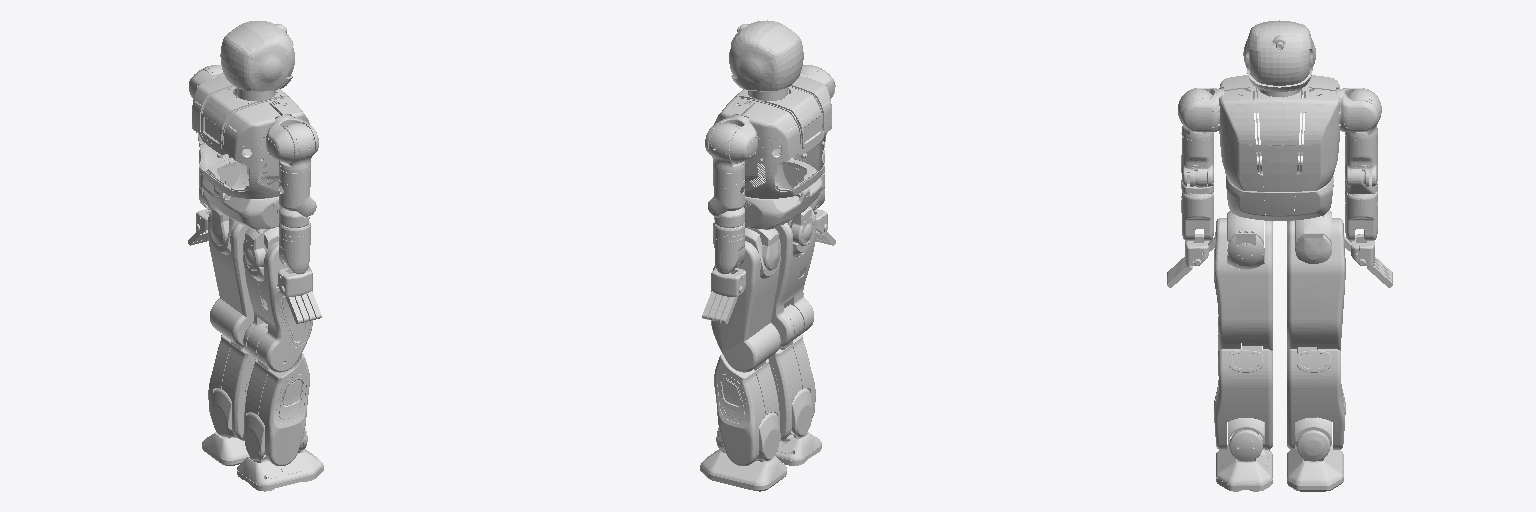
--- Render facts (derived) ---
Views: 3 orthographic renders of the robot side by side, from view 1: azimuth 30°, elevation 25°; view 2: azimuth 150°, elevation 25°; view 3: azimuth 270°, elevation 25°.
Robot: huboplus — 59 links, 58 joints (58 revolute); root link Body_Torso; default pose: all joints at 0.
Visible links, largest first — view 1: Body_Torso, Body_RKN, Body_Head, Body_RHP, Body_LHP, Body_Hip, Body_LKN, Body_RAR, Body_RWY, Body_RSY, Body_RSP, Body_RSR (+6 smaller); view 2: Body_Torso, Body_LHP, Body_LKN, Body_Head, Body_RHP, Body_RKN, Body_Hip, Body_LAR, Body_LWY, Body_LSY, Body_LSP, Body_LSR (+6 smaller); view 3: Body_Torso, Body_LHP, Body_RHP, Body_RKN, Body_LKN, Body_Head, Body_Hip, Body_RAR, Body_LAR, Body_LWY, Body_RWY, Body_LSY (+12 smaller).
Boxes of the visible links, box(x1,y1,x2,y2) form: Body_Torso: box(192, 76, 309, 198); Body_RKN: box(244, 323, 309, 465); Body_Head: box(220, 21, 294, 91); Body_RHP: box(243, 240, 312, 372); Body_LHP: box(208, 208, 253, 347); Body_Hip: box(202, 159, 280, 229); Body_LKN: box(208, 334, 255, 440); Body_RAR: box(237, 428, 323, 491); Body_RWY: box(279, 221, 310, 274); Body_RSY: box(279, 163, 316, 216); Body_RSP: box(266, 115, 318, 162); Body_RSR: box(279, 123, 314, 172); Body_Torso: box(714, 76, 831, 198); Body_LHP: box(711, 239, 780, 372); Body_LKN: box(714, 354, 779, 465); Body_Head: box(729, 20, 803, 91); Body_RHP: box(771, 210, 815, 347); Body_RKN: box(768, 304, 815, 440); Body_Hip: box(743, 159, 821, 229); Body_LAR: box(700, 428, 786, 491); Body_LWY: box(713, 221, 744, 274); Body_LSY: box(708, 163, 744, 216); Body_LSP: box(705, 115, 757, 162); Body_LSR: box(709, 123, 744, 172); Body_Torso: box(1219, 75, 1339, 191); Body_LHP: box(1287, 218, 1345, 352); Body_RHP: box(1214, 218, 1272, 350); Body_RKN: box(1214, 346, 1272, 449); Body_LKN: box(1287, 347, 1345, 449); Body_Head: box(1243, 20, 1315, 91); Body_Hip: box(1226, 160, 1333, 220); Body_RAR: box(1216, 429, 1272, 491); Body_LAR: box(1287, 430, 1343, 491); Body_LWY: box(1345, 191, 1377, 240); Body_RWY: box(1181, 185, 1213, 240); Body_LSY: box(1345, 135, 1377, 186).
Size in the robot's own frame: 0.2767 by 0.5883 by 1.29 metres.
58 mesh visuals loaded from 30 distinct referenced files (10 binary STL, 20 Collada DAE).

URDF robot description (huboplus):
<?xml version="1.0" ?>
<!-- =================================================================================== -->
<!-- |    This document was autogenerated by xacro from huboplus.xacro                 | -->
<!-- |    EDITING THIS FILE BY HAND IS NOT RECOMMENDED                                 | -->
<!-- =================================================================================== -->
<robot name="huboplus" xmlns:xacro="http://www.ros.org/wiki/xacro">
  <link name="Body_Torso">
    <inertial>
      <mass value="7.50334"/>
      <inertia ixx="0.102019" ixy="2.45462e-05" ixz="0.00713022" iyy="0.0832724" iyz="-0.00131733" izz="0.086493"/>
      <origin xyz="0 0 0"/>
    </inertial>
    <visual>
      <geometry>
        <mesh filename="meshes/Body_Torso_vis.dae"/>
      </geometry>
      <material name="random">
        <color rgba="0.866667 0.866667 0.866667 1"/>
      </material>
    </visual>
    <collision>
      <geometry>
        <mesh filename="meshes/Body_Torso.stl"/>
      </geometry>
    </collision>
  </link>
  <!-- Robots should have necks, dammit! -->
  <link name="Body_Neck">
    <collision>
        <geometry>
        <mesh filename="meshes/Body_Neck.stl"/>
      </geometry>
    </collision>
    <visual>
      <geometry>
        <mesh filename="meshes/Body_Neck.stl"/>
      </geometry>
      <material name="random">
        <color rgba="0.866667 0.866667 0.866667 1"/>
      </material>
    </visual>
    <!-- and they should have an inertia, dammit! Because we do not know the value, we put something small. -->
    <inertial>
      <mass value="0.000001"/>
      <inertia ixx="1e-12" ixy="0" ixz="0" iyy="1e-12" iyz="0" izz="1e-12"/>
      <origin xyz="0 0 0"/>
    </inertial>
  </link>
  <link name="Body_Head_Empty">
    <inertial>
      <mass value="0.000001"/>
      <inertia ixx="1e-12" ixy="0" ixz="0" iyy="1e-12" iyz="0" izz="1e-12"/>
      <origin xyz="0 0 0"/>
    </inertial>
  </link> 
  <link name="Body_Head">
    <inertial>
      <mass value="0.374251"/>
      <inertia ixx="0.00164033" ixy="-1.08171e-07" ixz="-9.53978e-05" iyy="0.00153943" iyz="1.25376e-06" izz="0.00190393"/>
      <origin xyz="0.0106886 -3.00864e-05 0.032123"/>
    </inertial>
    <visual>
      <geometry>
        <mesh filename="meshes/Body_Head.stl"/>
      </geometry>
      <material name="random">
        <color rgba="0.866667 0.866667 0.866667 1"/>
      </material>
    </visual>
    <collision>
      <geometry>
        <mesh filename="meshes/Body_Head.stl"/>
      </geometry>
    </collision>
  </link>
  <link name="Body_LSP">
    <inertial>
      <mass value="0.646655"/>
      <inertia ixx="0.000893731" ixy="-0.000156484" ixz="4.98007e-07" iyy="0.00093016" iyz="1.57095e-07" izz="0.00124323"/>
      <origin xyz="0.0167207 0.0570407 9.91873e-06"/>
    </inertial>
    <visual>
      <geometry>
        <mesh filename="meshes/Body_LSP_vis.dae"/>
      </geometry>
      <material name="random">
        <color rgba="0.866667 0.866667 0.866667 1"/>
      </material>
    </visual>
    <collision>
      <geometry>
        <mesh filename="meshes/Body_LSP.stl"/>
      </geometry>
    </collision>
  </link>
  <link name="Body_LSR">
    <inertial>
      <mass value="0.413368"/>
      <inertia ixx="0.000269283" ixy="4.52571e-07" ixz="3.23662e-06" iyy="0.00037679" iyz="9.93935e-07" izz="0.000360355"/>
      <origin xyz="-0.036208 -8.31243e-05 -0.00126685"/>
    </inertial>
    <visual>
      <geometry>
        <mesh filename="meshes/Body_LSR_vis.dae"/>
      </geometry>
      <material name="random">
        <color rgba="0.866667 0.866667 0.866667 1"/>
      </material>
    </visual>
    <collision>
      <geometry>
        <mesh filename="meshes/Body_LSR.stl"/>
      </geometry>
    </collision>
  </link>
  <link name="Body_LSY">
    <inertial>
      <mass value="1.15461"/>
      <inertia ixx="0.00365479" ixy="2.05436e-06" ixz="0.000418448" iyy="0.00364731" iyz="-3.09648e-05" izz="0.00060633"/>
      <origin xyz="0.00456121 3.10576e-05 -0.0907824"/>
    </inertial>
    <visual>
      <geometry>
        <mesh filename="meshes/Body_LSY_vis.dae"/>
      </geometry>
      <material name="random">
        <color rgba="0.866667 0.866667 0.866667 1"/>
      </material>
    </visual>
    <collision>
      <geometry>
        <mesh filename="meshes/Body_LSY.stl"/>
      </geometry>
    </collision>
  </link>
  <link name="Body_LEB">
    <inertial>
      <mass value="0.44094"/>
      <inertia ixx="0.0005027" ixy="3.64587e-06" ixz="-1.41388e-05" iyy="0.00049415" iyz="7.65528e-06" izz="0.000131786"/>
      <origin xyz="-0.0217349 0.0178314 -0.0610873"/>
    </inertial>
    <visual>
      <geometry>
        <mesh filename="meshes/Body_LEB.stl"/>
      </geometry>
      <material name="random">
        <color rgba="0.866667 0.866667 0.866667 1"/>
      </material>
    </visual>
    <collision>
      <geometry>
        <mesh filename="meshes/Body_LEB.stl"/>
      </geometry>
    </collision>
  </link>
  <link name="Body_LWY">
    <inertial>
      <mass value="0.537738"/>
      <inertia ixx="0.00063457" ixy="-4.62486e-07" ixz="6.20682e-06" iyy="0.000563918" iyz="3.54044e-05" izz="0.000305422"/>
      <origin xyz="-0.00122019 0.000635233 -0.0238043"/>
    </inertial>
    <visual>
      <geometry>
        <mesh filename="meshes/Body_LWY_vis.dae"/>
      </geometry>
      <material name="random">
        <color rgba="0.866667 0.866667 0.866667 1"/>
      </material>
    </visual>
    <collision>
      <geometry>
        <mesh filename="meshes/Body_LWY.stl"/>
      </geometry>
    </collision>
  </link>
  <link name="Body_LWP">
    <inertial>
      <mass value="0.164393"/>
      <inertia ixx="9.74327e-05" ixy="-5.22155e-07" ixz="-1.17317e-06" iyy="0.000144494" iyz="9.4927e-06" izz="0.000122681"/>
      <origin xyz="-0.000258199 0.011442 -0.0461472"/>
    </inertial>
    <visual>
      <geometry>
        <mesh filename="meshes/Body_LWP_vis.dae"/>
      </geometry>
      <material name="random">
        <color rgba="0.866667 0.866667 0.866667 1"/>
      </material>
    </visual>
    <collision>
      <geometry>
        <mesh filename="meshes/Body_LWP.stl"/>
      </geometry>
    </collision>
  </link>
  <link name="leftThumbProximal">
    <inertial>
      <mass value="0.096"/>
      <inertia ixx="2.304e-06" ixy="0" ixz="0" iyy="8.96e-06" iyz="6.85949e-15" izz="9.216e-06"/>
      <origin xyz="0.024 0 0"/>
    </inertial>
    <visual>
      <geometry>
        <mesh filename="meshes/proximal.stl"/>
      </geometry>
      <material name="random">
        <color rgba="0.866667 0.866667 0.866667 1"/>
      </material>
    </visual>
    <collision>
      <geometry>
        <mesh filename="meshes/proximal.stl"/>
      </geometry>
    </collision>
  </link>
  <link name="leftThumbMedial">
    <inertial>
      <mass value="0.048"/>
      <inertia ixx="1.152e-06" ixy="0" ixz="0" iyy="2.59e-06" iyz="3.42975e-15" izz="2.718e-06"/>
      <origin xyz="0.0165 0 0"/>
    </inertial>
    <visual>
      <geometry>
        <mesh filename="meshes/medial_distal.stl"/>
      </geometry>
      <material name="random">
        <color rgba="0.866667 0.866667 0.866667 1"/>
      </material>
    </visual>
    <collision>
      <geometry>
        <mesh filename="meshes/medial_distal.stl"/>
      </geometry>
    </collision>
  </link>
  <link name="leftThumbDistal">
    <inertial>
      <mass value="0.08"/>
      <inertia ixx="1.92e-06" ixy="0" ixz="0" iyy="3.82667e-06" iyz="5.71624e-15" izz="4.04e-06"/>
      <origin xyz="0.015 0 0"/>
    </inertial>
    <visual>
      <geometry>
        <mesh filename="meshes/medial_distal.stl"/>
      </geometry>
      <material name="random">
        <color rgba="0.866667 0.866667 0.866667 1"/>
      </material>
    </visual>
    <collision>
      <geometry>
        <mesh filename="meshes/medial_distal.stl"/>
      </geometry>
    </collision>
  </link>
  <link name="leftPinkyProximal">
    <inertial>
      <mass value="0.096"/>
      <inertia ixx="2.304e-06" ixy="0" ixz="0" iyy="8.96e-06" iyz="6.85949e-15" izz="9.216e-06"/>
      <origin xyz="0.024 0 0"/>
    </inertial>
    <visual>
      <geometry>
        <mesh filename="meshes/proximal.stl"/>
      </geometry>
      <material name="random">
        <color rgba="0.866667 0.866667 0.866667 1"/>
      </material>
    </visual>
    <collision>
      <geometry>
        <mesh filename="meshes/proximal.stl"/>
      </geometry>
    </collision>
  </link>
  <link name="leftPinkyMedial">
    <inertial>
      <mass value="0.048"/>
      <inertia ixx="1.152e-06" ixy="0" ixz="0" iyy="2.59e-06" iyz="3.42975e-15" izz="2.718e-06"/>
      <origin xyz="0.0165 0 0"/>
    </inertial>
    <visual>
      <geometry>
        <mesh filename="meshes/medial_distal.stl"/>
      </geometry>
      <material name="random">
        <color rgba="0.866667 0.866667 0.866667 1"/>
      </material>
    </visual>
    <collision>
      <geometry>
        <mesh filename="meshes/medial_distal.stl"/>
      </geometry>
    </collision>
  </link>
  <link name="leftPinkyDistal">
    <inertial>
      <mass value="0.08"/>
      <inertia ixx="1.92e-06" ixy="0" ixz="0" iyy="3.82667e-06" iyz="5.71624e-15" izz="4.04e-06"/>
      <origin xyz="0.015 0 0"/>
    </inertial>
    <visual>
      <geometry>
        <mesh filename="meshes/medial_distal.stl"/>
      </geometry>
      <material name="random">
        <color rgba="0.866667 0.866667 0.866667 1"/>
      </material>
    </visual>
    <collision>
      <geometry>
        <mesh filename="meshes/medial_distal.stl"/>
      </geometry>
    </collision>
  </link>
  <link name="leftRingProximal">
    <inertial>
      <mass value="0.096"/>
      <inertia ixx="2.304e-06" ixy="0" ixz="0" iyy="8.96e-06" iyz="6.85949e-15" izz="9.216e-06"/>
      <origin xyz="0.024 0 0"/>
    </inertial>
    <visual>
      <geometry>
        <mesh filename="meshes/proximal.stl"/>
      </geometry>
      <material name="random">
        <color rgba="0.866667 0.866667 0.866667 1"/>
      </material>
    </visual>
    <collision>
      <geometry>
        <mesh filename="meshes/proximal.stl"/>
      </geometry>
    </collision>
  </link>
  <link name="leftRingMedial">
    <inertial>
      <mass value="0.048"/>
      <inertia ixx="1.152e-06" ixy="0" ixz="0" iyy="2.59e-06" iyz="3.42975e-15" izz="2.718e-06"/>
      <origin xyz="0.0165 0 0"/>
    </inertial>
    <visual>
      <geometry>
        <mesh filename="meshes/medial_distal.stl"/>
      </geometry>
      <material name="random">
        <color rgba="0.866667 0.866667 0.866667 1"/>
      </material>
    </visual>
    <collision>
      <geometry>
        <mesh filename="meshes/medial_distal.stl"/>
      </geometry>
    </collision>
  </link>
  <link name="leftRingDistal">
    <inertial>
      <mass value="0.08"/>
      <inertia ixx="1.92e-06" ixy="0" ixz="0" iyy="3.82667e-06" iyz="5.71624e-15" izz="4.04e-06"/>
      <origin xyz="0.015 0 0"/>
    </inertial>
    <visual>
      <geometry>
        <mesh filename="meshes/medial_distal.stl"/>
      </geometry>
      <material name="random">
        <color rgba="0.866667 0.866667 0.866667 1"/>
      </material>
    </visual>
    <collision>
      <geometry>
        <mesh filename="meshes/medial_distal.stl"/>
      </geometry>
    </collision>
  </link>
  <link name="leftMiddleProximal">
    <inertial>
      <mass value="0.096"/>
      <inertia ixx="2.304e-06" ixy="0" ixz="0" iyy="8.96e-06" iyz="6.85949e-15" izz="9.216e-06"/>
      <origin xyz="0.024 0 0"/>
    </inertial>
    <visual>
      <geometry>
        <mesh filename="meshes/proximal.stl"/>
      </geometry>
      <material name="random">
        <color rgba="0.866667 0.866667 0.866667 1"/>
      </material>
    </visual>
    <collision>
      <geometry>
        <mesh filename="meshes/proximal.stl"/>
      </geometry>
    </collision>
  </link>
  <link name="leftMiddleMedial">
    <inertial>
      <mass value="0.048"/>
      <inertia ixx="1.152e-06" ixy="0" ixz="0" iyy="2.59e-06" iyz="3.42975e-15" izz="2.718e-06"/>
      <origin xyz="0.0165 0 0"/>
    </inertial>
    <visual>
      <geometry>
        <mesh filename="meshes/medial_distal.stl"/>
      </geometry>
      <material name="random">
        <color rgba="0.866667 0.866667 0.866667 1"/>
      </material>
    </visual>
    <collision>
      <geometry>
        <mesh filename="meshes/medial_distal.stl"/>
      </geometry>
    </collision>
  </link>
  <link name="leftMiddleDistal">
    <inertial>
      <mass value="0.08"/>
      <inertia ixx="1.92e-06" ixy="0" ixz="0" iyy="3.82667e-06" iyz="5.71624e-15" izz="4.04e-06"/>
      <origin xyz="0.015 0 0"/>
    </inertial>
    <visual>
      <geometry>
        <mesh filename="meshes/medial_distal.stl"/>
      </geometry>
      <material name="random">
        <color rgba="0.866667 0.866667 0.866667 1"/>
      </material>
    </visual>
    <collision>
      <geometry>
        <mesh filename="meshes/medial_distal.stl"/>
      </geometry>
    </collision>
  </link>
  <link name="leftIndexProximal">
    <inertial>
      <mass value="0.096"/>
      <inertia ixx="2.304e-06" ixy="0" ixz="0" iyy="8.96e-06" iyz="6.85949e-15" izz="9.216e-06"/>
      <origin xyz="0.024 0 0"/>
    </inertial>
    <visual>
      <geometry>
        <mesh filename="meshes/proximal.stl"/>
      </geometry>
      <material name="random">
        <color rgba="0.866667 0.866667 0.866667 1"/>
      </material>
    </visual>
    <collision>
      <geometry>
        <mesh filename="meshes/proximal.stl"/>
      </geometry>
    </collision>
  </link>
  <link name="leftIndexMedial">
    <inertial>
      <mass value="0.048"/>
      <inertia ixx="1.152e-06" ixy="0" ixz="0" iyy="2.59e-06" iyz="3.42975e-15" izz="2.718e-06"/>
      <origin xyz="0.0165 0 0"/>
    </inertial>
    <visual>
      <geometry>
        <mesh filename="meshes/medial_distal.stl"/>
      </geometry>
      <material name="random">
        <color rgba="0.866667 0.866667 0.866667 1"/>
      </material>
    </visual>
    <collision>
      <geometry>
        <mesh filename="meshes/medial_distal.stl"/>
      </geometry>
    </collision>
  </link>
  <link name="leftIndexDistal">
    <inertial>
      <mass value="0.08"/>
      <inertia ixx="1.92e-06" ixy="0" ixz="0" iyy="3.82667e-06" iyz="5.71624e-15" izz="4.04e-06"/>
      <origin xyz="0.015 0 0"/>
    </inertial>
    <visual>
      <geometry>
        <mesh filename="meshes/medial_distal.stl"/>
      </geometry>
      <material name="random">
        <color rgba="0.866667 0.866667 0.866667 1"/>
      </material>
    </visual>
    <collision>
      <geometry>
        <mesh filename="meshes/medial_distal.stl"/>
      </geometry>
    </collision>
  </link>
  <link name="Body_RSP">
    <inertial>
      <mass value="0.646655"/>
      <inertia ixx="0.000893731" ixy="0.000156484" ixz="4.98007e-07" iyy="0.00093016" iyz="-1.57095e-07" izz="0.00124323"/>
      <origin xyz="0.0167207 -0.0570407 9.91873e-06"/>
    </inertial>
    <visual>
      <geometry>
        <mesh filename="meshes/Body_RSP_vis.dae"/>
      </geometry>
      <material name="random">
        <color rgba="0.866667 0.866667 0.866667 1"/>
      </material>
    </visual>
    <collision>
      <geometry>
        <mesh filename="meshes/Body_RSP.stl"/>
      </geometry>
    </collision>
  </link>
  <link name="Body_RSR">
    <inertial>
      <mass value="0.413368"/>
      <inertia ixx="0.000269283" ixy="-4.52571e-07" ixz="3.23662e-06" iyy="0.00037679" iyz="-9.93935e-07" izz="0.000360355"/>
      <origin xyz="-0.036208 8.31243e-05 -0.00126685"/>
    </inertial>
    <visual>
      <geometry>
        <mesh filename="meshes/Body_RSR_vis.dae"/>
      </geometry>
      <material name="random">
        <color rgba="0.866667 0.866667 0.866667 1"/>
      </material>
    </visual>
    <collision>
      <geometry>
        <mesh filename="meshes/Body_RSR.stl"/>
      </geometry>
    </collision>
  </link>
  <link name="Body_RSY">
    <inertial>
      <mass value="1.15461"/>
      <inertia ixx="0.00365479" ixy="-2.05436e-06" ixz="0.000418448" iyy="0.00364731" iyz="3.09648e-05" izz="0.00060633"/>
      <origin xyz="0.00456121 -3.10576e-05 -0.0907824"/>
    </inertial>
    <visual>
      <geometry>
        <mesh filename="meshes/Body_RSY_vis.dae"/>
      </geometry>
      <material name="random">
        <color rgba="0.866667 0.866667 0.866667 1"/>
      </material>
    </visual>
    <collision>
      <geometry>
        <mesh filename="meshes/Body_RSY.stl"/>
      </geometry>
    </collision>
  </link>
  <link name="Body_REB">
    <inertial>
      <mass value="0.44094"/>
      <inertia ixx="0.0005027" ixy="-3.64587e-06" ixz="-1.41388e-05" iyy="0.00049415" iyz="-7.65528e-06" izz="0.000131786"/>
      <origin xyz="-0.0217349 -0.0178314 -0.0610873"/>
    </inertial>
    <visual>
      <geometry>
        <mesh filename="meshes/Body_REB_vis.dae"/>
      </geometry>
      <material name="random">
        <color rgba="0.866667 0.866667 0.866667 1"/>
      </material>
    </visual>
    <collision>
      <geometry>
        <mesh filename="meshes/Body_REB.stl"/>
      </geometry>
    </collision>
  </link>
  <link name="Body_RWY">
    <inertial>
      <mass value="0.537738"/>
      <inertia ixx="0.00063457" ixy="4.62486e-07" ixz="6.20682e-06" iyy="0.000563918" iyz="-3.54044e-05" izz="0.000305422"/>
      <origin xyz="-0.00122019 -0.000635233 -0.0238043"/>
    </inertial>
    <visual>
      <geometry>
        <mesh filename="meshes/Body_RWY_vis.dae"/>
      </geometry>
      <material name="random">
        <color rgba="0.866667 0.866667 0.866667 1"/>
      </material>
    </visual>
    <collision>
      <geometry>
        <mesh filename="meshes/Body_RWY.stl"/>
      </geometry>
    </collision>
  </link>
  <link name="Body_RWP">
    <inertial>
      <mass value="0.164393"/>
      <inertia ixx="9.74327e-05" ixy="5.22155e-07" ixz="-1.17317e-06" iyy="0.000144494" iyz="-9.4927e-06" izz="0.000122681"/>
      <origin xyz="-0.000258199 -0.011442 -0.0461472"/>
    </inertial>
    <visual>
      <geometry>
        <mesh filename="meshes/Body_RWP_vis.dae"/>
      </geometry>
      <material name="random">
        <color rgba="0.866667 0.866667 0.866667 1"/>
      </material>
    </visual>
    <collision>
      <geometry>
        <mesh filename="meshes/Body_RWP.stl"/>
      </geometry>
    </collision>
  </link>
  <link name="rightThumbProximal">
    <inertial>
      <mass value="0.096"/>
      <inertia ixx="2.304e-06" ixy="0" ixz="0" iyy="8.96e-06" iyz="6.85949e-15" izz="9.216e-06"/>
      <origin xyz="0.024 0 0"/>
    </inertial>
    <visual>
      <geometry>
        <mesh filename="meshes/proximal.stl"/>
      </geometry>
      <material name="random">
        <color rgba="0.866667 0.866667 0.866667 1"/>
      </material>
    </visual>
    <collision>
      <geometry>
        <mesh filename="meshes/proximal.stl"/>
      </geometry>
    </collision>
  </link>
  <link name="rightThumbMedial">
    <inertial>
      <mass value="0.048"/>
      <inertia ixx="1.152e-06" ixy="0" ixz="0" iyy="2.59e-06" iyz="3.42975e-15" izz="2.718e-06"/>
      <origin xyz="0.0165 0 0"/>
    </inertial>
    <visual>
      <geometry>
        <mesh filename="meshes/medial_distal.stl"/>
      </geometry>
      <material name="random">
        <color rgba="0.866667 0.866667 0.866667 1"/>
      </material>
    </visual>
    <collision>
      <geometry>
        <mesh filename="meshes/medial_distal.stl"/>
      </geometry>
    </collision>
  </link>
  <link name="rightThumbDistal">
    <inertial>
      <mass value="0.08"/>
      <inertia ixx="1.92e-06" ixy="0" ixz="0" iyy="3.82667e-06" iyz="5.71624e-15" izz="4.04e-06"/>
      <origin xyz="0.015 0 0"/>
    </inertial>
    <visual>
      <geometry>
        <mesh filename="meshes/medial_distal.stl"/>
      </geometry>
      <material name="random">
        <color rgba="0.866667 0.866667 0.866667 1"/>
      </material>
    </visual>
    <collision>
      <geometry>
        <mesh filename="meshes/medial_distal.stl"/>
      </geometry>
    </collision>
  </link>
  <link name="rightPinkyProximal">
    <inertial>
      <mass value="0.096"/>
      <inertia ixx="2.304e-06" ixy="0" ixz="0" iyy="8.96e-06" iyz="6.85949e-15" izz="9.216e-06"/>
      <origin xyz="0.024 0 0"/>
    </inertial>
    <visual>
      <geometry>
        <mesh filename="meshes/proximal.stl"/>
      </geometry>
      <material name="random">
        <color rgba="0.866667 0.866667 0.866667 1"/>
      </material>
    </visual>
    <collision>
      <geometry>
        <mesh filename="meshes/proximal.stl"/>
      </geometry>
    </collision>
  </link>
  <link name="rightPinkyMedial">
    <inertial>
      <mass value="0.048"/>
      <inertia ixx="1.152e-06" ixy="0" ixz="0" iyy="2.59e-06" iyz="3.42975e-15" izz="2.718e-06"/>
      <origin xyz="0.0165 0 0"/>
    </inertial>
    <visual>
      <geometry>
        <mesh filename="meshes/medial_distal.stl"/>
      </geometry>
      <material name="random">
        <color rgba="0.866667 0.866667 0.866667 1"/>
      </material>
    </visual>
    <collision>
      <geometry>
        <mesh filename="meshes/medial_distal.stl"/>
      </geometry>
    </collision>
  </link>
  <link name="rightPinkyDistal">
    <inertial>
      <mass value="0.08"/>
      <inertia ixx="1.92e-06" ixy="0" ixz="0" iyy="3.82667e-06" iyz="5.71624e-15" izz="4.04e-06"/>
      <origin xyz="0.015 0 0"/>
    </inertial>
    <visual>
      <geometry>
        <mesh filename="meshes/medial_distal.stl"/>
      </geometry>
      <material name="random">
        <color rgba="0.866667 0.866667 0.866667 1"/>
      </material>
    </visual>
    <collision>
      <geometry>
        <mesh filename="meshes/medial_distal.stl"/>
      </geometry>
    </collision>
  </link>
  <link name="rightRingProximal">
    <inertial>
      <mass value="0.096"/>
      <inertia ixx="2.304e-06" ixy="0" ixz="0" iyy="8.96e-06" iyz="6.85949e-15" izz="9.216e-06"/>
      <origin xyz="0.024 0 0"/>
    </inertial>
    <visual>
      <geometry>
        <mesh filename="meshes/proximal.stl"/>
      </geometry>
      <material name="random">
        <color rgba="0.866667 0.866667 0.866667 1"/>
      </material>
    </visual>
    <collision>
      <geometry>
        <mesh filename="meshes/proximal.stl"/>
      </geometry>
    </collision>
  </link>
  <link name="rightRingMedial">
    <inertial>
      <mass value="0.048"/>
      <inertia ixx="1.152e-06" ixy="0" ixz="0" iyy="2.59e-06" iyz="3.42975e-15" izz="2.718e-06"/>
      <origin xyz="0.0165 0 0"/>
    </inertial>
    <visual>
      <geometry>
        <mesh filename="meshes/medial_distal.stl"/>
      </geometry>
      <material name="random">
        <color rgba="0.866667 0.866667 0.866667 1"/>
      </material>
    </visual>
    <collision>
      <geometry>
        <mesh filename="meshes/medial_distal.stl"/>
      </geometry>
    </collision>
  </link>
  <link name="rightRingDistal">
    <inertial>
      <mass value="0.08"/>
      <inertia ixx="1.92e-06" ixy="0" ixz="0" iyy="3.82667e-06" iyz="5.71624e-15" izz="4.04e-06"/>
      <origin xyz="0.015 0 0"/>
    </inertial>
    <visual>
      <geometry>
        <mesh filename="meshes/medial_distal.stl"/>
      </geometry>
      <material name="random">
        <color rgba="0.866667 0.866667 0.866667 1"/>
      </material>
    </visual>
    <collision>
      <geometry>
        <mesh filename="meshes/medial_distal.stl"/>
      </geometry>
    </collision>
  </link>
  <link name="rightMiddleProximal">
    <inertial>
      <mass value="0.096"/>
      <inertia ixx="2.304e-06" ixy="0" ixz="0" iyy="8.96e-06" iyz="6.85949e-15" izz="9.216e-06"/>
      <origin xyz="0.024 0 0"/>
    </inertial>
    <visual>
      <geometry>
        <mesh filename="meshes/proximal.stl"/>
      </geometry>
      <material name="random">
        <color rgba="0.866667 0.866667 0.866667 1"/>
      </material>
    </visual>
    <collision>
      <geometry>
        <mesh filename="meshes/proximal.stl"/>
      </geometry>
    </collision>
  </link>
  <link name="rightMiddleMedial">
    <inertial>
      <mass value="0.048"/>
      <inertia ixx="1.152e-06" ixy="0" ixz="0" iyy="2.59e-06" iyz="3.42975e-15" izz="2.718e-06"/>
      <origin xyz="0.0165 0 0"/>
    </inertial>
    <visual>
      <geometry>
        <mesh filename="meshes/medial_distal.stl"/>
      </geometry>
      <material name="random">
        <color rgba="0.866667 0.866667 0.866667 1"/>
      </material>
    </visual>
    <collision>
      <geometry>
        <mesh filename="meshes/medial_distal.stl"/>
      </geometry>
    </collision>
  </link>
  <link name="rightMiddleDistal">
    <inertial>
      <mass value="0.08"/>
      <inertia ixx="1.92e-06" ixy="0" ixz="0" iyy="3.82667e-06" iyz="5.71624e-15" izz="4.04e-06"/>
      <origin xyz="0.015 0 0"/>
    </inertial>
    <visual>
      <geometry>
        <mesh filename="meshes/medial_distal.stl"/>
      </geometry>
      <material name="random">
        <color rgba="0.866667 0.866667 0.866667 1"/>
      </material>
    </visual>
    <collision>
      <geometry>
        <mesh filename="meshes/medial_distal.stl"/>
      </geometry>
    </collision>
  </link>
  <link name="rightIndexProximal">
    <inertial>
      <mass value="0.096"/>
      <inertia ixx="2.304e-06" ixy="0" ixz="0" iyy="8.96e-06" iyz="6.85949e-15" izz="9.216e-06"/>
      <origin xyz="0.024 0 0"/>
    </inertial>
    <visual>
      <geometry>
        <mesh filename="meshes/proximal.stl"/>
      </geometry>
      <material name="random">
        <color rgba="0.866667 0.866667 0.866667 1"/>
      </material>
    </visual>
    <collision>
      <geometry>
        <mesh filename="meshes/proximal.stl"/>
      </geometry>
    </collision>
  </link>
  <link name="rightIndexMedial">
    <inertial>
      <mass value="0.048"/>
      <inertia ixx="1.152e-06" ixy="0" ixz="0" iyy="2.59e-06" iyz="3.42975e-15" izz="2.718e-06"/>
      <origin xyz="0.0165 0 0"/>
    </inertial>
    <visual>
      <geometry>
        <mesh filename="meshes/medial_distal.stl"/>
      </geometry>
      <material name="random">
        <color rgba="0.866667 0.866667 0.866667 1"/>
      </material>
    </visual>
    <collision>
      <geometry>
        <mesh filename="meshes/medial_distal.stl"/>
      </geometry>
    </collision>
  </link>
  <link name="rightIndexDistal">
    <inertial>
      <mass value="0.08"/>
      <inertia ixx="1.92e-06" ixy="0" ixz="0" iyy="3.82667e-06" iyz="5.71624e-15" izz="4.04e-06"/>
      <origin xyz="0.015 0 0"/>
    </inertial>
    <visual>
      <geometry>
        <mesh filename="meshes/medial_distal.stl"/>
      </geometry>
      <material name="random">
        <color rgba="0.866667 0.866667 0.866667 1"/>
      </material>
    </visual>
    <collision>
      <geometry>
        <mesh filename="meshes/medial_distal.stl"/>
      </geometry>
    </collision>
  </link>
  <link name="Body_Hip">
    <inertial>
      <mass value="3.41719"/>
      <inertia ixx="0.0180349" ixy="3.17531e-05" ixz="-0.000513489" iyy="0.00912382" iyz="-6.90617e-05" izz="0.0220514"/>
      <origin xyz="-0.0138504 7.80652e-06 -0.0354613"/>
    </inertial>
    <visual>
      <geometry>
        <mesh filename="meshes/Body_Hip_vis.dae"/>
      </geometry>
      <material name="random">
        <color rgba="0.866667 0.866667 0.866667 1"/>
      </material>
    </visual>
    <collision>
      <geometry>
        <mesh filename="meshes/Body_Hip.stl"/>
      </geometry>
    </collision>
  </link>
  <link name="Body_LHY">
    <inertial>
      <mass value="0.826125"/>
      <inertia ixx="0.00151818" ixy="2.13586e-06" ixz="0.000434128" iyy="0.00286333" iyz="-1.57525e-07" izz="0.00211437"/>
      <origin xyz="0.0347065 3.748e-05 -0.0726153"/>
    </inertial>
    <visual>
      <geometry>
        <mesh filename="meshes/Body_LHY.stl"/>
      </geometry>
      <material name="random">
        <color rgba="0.866667 0.866667 0.866667 1"/>
      </material>
    </visual>
    <collision>
      <geometry>
        <mesh filename="meshes/Body_LHY.stl"/>
      </geometry>
    </collision>
  </link>
  <link name="Body_LHR">
    <inertial>
      <mass value="1.93266"/>
      <inertia ixx="0.00403487" ixy="7.9452e-05" ixz="-0.000125343" iyy="0.00332707" iyz="-0.000551964" izz="0.00317173"/>
      <origin xyz="-0.0497479 0.0125311 -0.0156437"/>
    </inertial>
    <visual>
      <geometry>
        <mesh filename="meshes/Body_LHR.stl"/>
      </geometry>
      <material name="random">
        <color rgba="0.866667 0.866667 0.866667 1"/>
      </material>
    </visual>
    <collision>
      <geometry>
        <mesh filename="meshes/Body_LHR.stl"/>
      </geometry>
    </collision>
  </link>
  <link name="Body_LHP">
    <inertial>
      <mass value="2.8201"/>
      <inertia ixx="0.0295102" ixy="0.000184399" ixz="-0.000370291" iyy="0.0273771" iyz="0.00065658" izz="0.00838035"/>
      <origin xyz="0.0195049 -0.0595775 -0.175202"/>
    </inertial>
    <visual>
      <geometry>
        <mesh filename="meshes/Body_LHP.stl"/>
      </geometry>
      <material name="random">
        <color rgba="0.866667 0.866667 0.866667 1"/>
      </material>
    </visual>
    <collision>
      <geometry>
        <mesh filename="meshes/Body_LHP.stl"/>
      </geometry>
    </collision>
  </link>
  <link name="Body_LKN">
    <inertial>
      <mass value="1.80912"/>
      <inertia ixx="0.0232156" ixy="0.000251648" ixz="-0.00129343" iyy="0.0208342" iyz="0.00278068" izz="0.0059204"/>
      <origin xyz="0.0128254 -0.00727567 -0.171431"/>
    </inertial>
    <visual>
      <geometry>
        <mesh filename="meshes/Body_LKN_vis.dae"/>
      </geometry>
      <material name="random">
        <color rgba="0.866667 0.866667 0.866667 1"/>
      </material>
    </visual>
    <collision>
      <geometry>
        <mesh filename="meshes/Body_LKN.stl"/>
      </geometry>
    </collision>
  </link>
  <link name="Body_LAP">
    <inertial>
      <mass value="1.63501"/>
      <inertia ixx="0.00231659" ixy="1.87402e-05" ixz="0.000369899" iyy="0.00330411" iyz="6.38153e-05" izz="0.00279495"/>
      <origin xyz="0.0198702 -0.0459693 0.0115069"/>
    </inertial>
    <visual>
      <geometry>
        <mesh filename="meshes/Body_LAP.stl"/>
      </geometry>
      <material name="random">
        <color rgba="0.866667 0.866667 0.866667 1"/>
      </material>
    </visual>
    <collision>
      <geometry>
        <mesh filename="meshes/Body_LAP.stl"/>
      </geometry>
    </collision>
  </link>
  <link name="Body_LAR">
    <inertial>
      <mass value="1.20318"/>
      <inertia ixx="0.00295183" ixy="3.23211e-05" ixz="0.000141769" iyy="0.00524792" iyz="5.95404e-05" izz="0.00516817"/>
      <origin xyz="-0.0515094 0.00216398 -0.0693881"/>
    </inertial>
    <visual>
      <geometry>
        <mesh filename="meshes/Body_LAR.stl"/>
      </geometry>
      <material name="random">
        <color rgba="0.866667 0.866667 0.866667 1"/>
      </material>
    </visual>
    <collision>
      <geometry>
        <mesh filename="meshes/Body_LAR.stl"/>
      </geometry>
    </collision>
  </link>
  <link name="Body_RHY">
    <inertial>
      <mass value="0.826125"/>
      <inertia ixx="0.00151818" ixy="-2.13586e-06" ixz="0.000434128" iyy="0.00286333" iyz="1.57525e-07" izz="0.00211437"/>
      <origin xyz="0.0347065 -3.748e-05 -0.0726153"/>
    </inertial>
    <visual>
      <geometry>
        <mesh filename="meshes/Body_RHY_vis.dae"/>
      </geometry>
      <material name="random">
        <color rgba="0.866667 0.866667 0.866667 1"/>
      </material>
    </visual>
    <collision>
      <geometry>
        <mesh filename="meshes/Body_RHY.stl"/>
      </geometry>
    </collision>
  </link>
  <link name="Body_RHR">
    <inertial>
      <mass value="1.93266"/>
      <inertia ixx="0.00403487" ixy="-7.9452e-05" ixz="-0.000125343" iyy="0.00332707" iyz="0.000551964" izz="0.00317173"/>
      <origin xyz="-0.0497479 -0.0125311 -0.0156437"/>
    </inertial>
    <visual>
      <geometry>
        <mesh filename="meshes/Body_RHR_vis.dae"/>
      </geometry>
      <material name="random">
        <color rgba="0.866667 0.866667 0.866667 1"/>
      </material>
    </visual>
    <collision>
      <geometry>
        <mesh filename="meshes/Body_RHR.stl"/>
      </geometry>
    </collision>
  </link>
  <link name="Body_RHP">
    <inertial>
      <mass value="2.8201"/>
      <inertia ixx="0.0295102" ixy="-0.000184399" ixz="-0.000370291" iyy="0.0273771" iyz="-0.00065658" izz="0.00838035"/>
      <origin xyz="0.0195049 0.0595775 -0.175202"/>
    </inertial>
    <visual>
      <geometry>
        <mesh filename="meshes/Body_RHP_vis.dae"/>
      </geometry>
      <material name="random">
        <color rgba="0.866667 0.866667 0.866667 1"/>
      </material>
    </visual>
    <collision>
      <geometry>
        <mesh filename="meshes/Body_RHP.stl"/>
      </geometry>
    </collision>
  </link>
  <link name="Body_RKN">
    <inertial>
      <mass value="1.80912"/>
      <inertia ixx="0.0232156" ixy="-0.000251648" ixz="-0.00129343" iyy="0.0208342" iyz="-0.00278068" izz="0.0059204"/>
      <origin xyz="0.0128254 0.00727567 -0.171431"/>
    </inertial>
    <visual>
      <geometry>
        <mesh filename="meshes/Body_RKN_vis.dae"/>
      </geometry>
      <material name="random">
        <color rgba="0.866667 0.866667 0.866667 1"/>
      </material>
    </visual>
    <collision>
      <geometry>
        <mesh filename="meshes/Body_RKN.stl"/>
      </geometry>
    </collision>
  </link>
  <link name="Body_RAP">
    <inertial>
      <mass value="1.63501"/>
      <inertia ixx="0.00231659" ixy="-1.87402e-05" ixz="0.000369899" iyy="0.00330411" iyz="-6.38153e-05" izz="0.00279495"/>
      <origin xyz="0.0198702 0.0459693 0.0115069"/>
    </inertial>
    <visual>
      <geometry>
        <mesh filename="meshes/Body_RAP_vis.dae"/>
      </geometry>
      <material name="random">
        <color rgba="0.866667 0.866667 0.866667 1"/>
      </material>
    </visual>
    <collision>
      <geometry>
        <mesh filename="meshes/Body_RAP.stl"/>
      </geometry>
    </collision>
  </link>
  <link name="Body_RAR">
    <inertial>
      <mass value="1.20318"/>
      <inertia ixx="0.00295183" ixy="-3.23211e-05" ixz="0.000141769" iyy="0.00524792" iyz="-5.95404e-05" izz="0.00516817"/>
      <origin xyz="-0.0515094 -0.00216398 -0.0693881"/>
    </inertial>
    <visual>
      <geometry>
        <mesh filename="meshes/Body_RAR_vis.dae"/>
      </geometry>
      <material name="random">
        <color rgba="0.866667 0.866667 0.866667 1"/>
      </material>
    </visual>
    <collision>
      <geometry>
        <mesh filename="meshes/Body_RAR.stl"/>
      </geometry>
    </collision>
  </link>
  <joint name="NKY" type="revolute">
    <origin rpy="0 -0 0" xyz="0.0137246 0.0 0.1092625"/>
    <parent link="Body_Torso"/>
    <child link="Body_Neck"/>
    <axis xyz="0 0 1"/>
    <limit effort="10.0" lower="-1.5" upper="1.5" velocity="1.0"/>
  </joint>
  <joint name="HNP" type="revolute">
    <origin rpy="0 -0 0" xyz="-0.0014665 0.0024526 0.0876725"/>
    <parent link="Body_Neck"/>
    <child link="Body_Head_Empty"/>
    <axis xyz="0 1 0"/>
    <limit effort="10.0" lower="-0.523599" upper="0.523599" velocity="1.0"/>
  </joint>
  <joint name="HNR" type="revolute">
    <origin rpy="0 -0 0" xyz="0 0 0"/>
    <parent link="Body_Head_Empty"/>
    <child link="Body_Head"/>
    <axis xyz="1 0 0"/>
    <limit effort="10.0" lower="-0.523599" upper="0.523599" velocity="1.0"/>
  </joint>
  <joint name="LSP" type="revolute">
    <origin rpy="0 -0 0" xyz="0.0122581 0.143973 0.0486356"/>
    <parent link="Body_Torso"/>
    <child link="Body_LSP"/>
    <axis xyz="0 1 0"/>
    <limit effort="10.0" lower="-3.14158" upper="3.14158" velocity="1.0"/>
  </joint>
  <joint name="LSR" type="revolute">
    <origin rpy="0 -0 0" xyz="0.0269 0.072 0"/>
    <parent link="Body_LSP"/>
    <child link="Body_LSR"/>
    <axis xyz="1 0 0"/>
    <limit effort="10.0" lower="0" upper="3.14158" velocity="1.0"/>
  </joint>
  <joint name="LSY" type="revolute">
    <origin rpy="0 -0 0" xyz="-0.0269 -0.000166249 -0.0245"/>
    <parent link="Body_LSR"/>
    <child link="Body_LSY"/>
    <axis xyz="0 0 1"/>
    <limit effort="10.0" lower="-3.14158" upper="3.14158" velocity="1.0"/>
  </joint>
  <joint name="LEB" type="revolute">
    <origin rpy="0 -0 0" xyz="0.0219936 -0.018 -0.157505"/>
    <parent link="Body_LSY"/>
    <child link="Body_LEB"/>
    <axis xyz="0 1 0"/>
    <limit effort="10.0" lower="-2.49582" upper="0.0698132" velocity="1.0"/>
  </joint>
  <joint name="LWY" type="revolute">
    <origin rpy="0 -0 0" xyz="-0.0219906 0.018 -0.111408"/>
    <parent link="Body_LEB"/>
    <child link="Body_LWY"/>
    <axis xyz="0 0 1"/>
    <limit effort="10.0" lower="-3.14158" upper="3.14158" velocity="1.0"/>
  </joint>
  <joint name="LWP" type="revolute">
    <origin rpy="0 -0 0" xyz="1.72973e-06 -0.00872953 -0.05255"/>
    <parent link="Body_LWY"/>
    <child link="Body_LWP"/>
    <axis xyz="0 1 0"/>
    <limit effort="10.0" lower="-1.64061" upper="1.01229" velocity="1.0"/>
  </joint>
  <joint name="leftThumbKnuckle1" type="revolute">
    <origin rpy="1.5708 -0.785398 -1.5708" xyz="0.0208959 0.00192069 -0.060952"/>
    <parent link="Body_LWP"/>
    <child link="leftThumbProximal"/>
    <axis xyz="0 0 -1"/>
    <limit effort="10.0" lower="-3.14" upper="3.14" velocity="1.0"/>
  </joint>
  <joint name="leftThumbKnuckle2" type="revolute">
    <origin rpy="0 -0 0" xyz="0.032 0 0"/>
    <parent link="leftThumbProximal"/>
    <child link="leftThumbMedial"/>
    <axis xyz="0 0 -1"/>
    <limit effort="10.0" lower="-3.14" upper="3.14" velocity="1.0"/>
  </joint>
  <joint name="leftThumbKnuckle3" type="revolute">
    <origin rpy="0 -0 0" xyz="0.022 0 0"/>
    <parent link="leftThumbMedial"/>
    <child link="leftThumbDistal"/>
    <axis xyz="0 0 -1"/>
    <limit effort="10.0" lower="-3.14" upper="3.14" velocity="1.0"/>
  </joint>
  <joint name="leftPinkyKnuckle1" type="revolute">
    <origin rpy="1.5708 0.785398 1.5708" xyz="-0.0281041 0.0298617 -0.088883"/>
    <parent link="Body_LWP"/>
    <child link="leftPinkyProximal"/>
    <axis xyz="0 0 -1"/>
    <limit effort="10.0" lower="-3.14" upper="3.14" velocity="1.0"/>
  </joint>
  <joint name="leftPinkyKnuckle2" type="revolute">
    <origin rpy="0 -0 0" xyz="0.032 0 0"/>
    <parent link="leftPinkyProximal"/>
    <child link="leftPinkyMedial"/>
    <axis xyz="0 0 -1"/>
    <limit effort="10.0" lower="-3.14" upper="3.14" velocity="1.0"/>
  </joint>
  <joint name="leftPinkyKnuckle3" type="revolute">
    <origin rpy="0 -0 0" xyz="0.022 0 0"/>
    <parent link="leftPinkyMedial"/>
    <child link="leftPinkyDistal"/>
    <axis xyz="0 0 -1"/>
    <limit effort="10.0" lower="-3.14" upper="3.14" velocity="1.0"/>
  </joint>
  <joint name="leftRingKnuckle1" type="revolute">
    <origin rpy="1.5708 0.785398 1.5708" xyz="-0.00910415 0.0298617 -0.088883"/>
    <parent link="Body_LWP"/>
    <child link="leftRingProximal"/>
    <axis xyz="0 0 -1"/>
    <limit effort="10.0" lower="-3.14" upper="3.14" velocity="1.0"/>
  </joint>
  <joint name="leftRingKnuckle2" type="revolute">
    <origin rpy="0 -0 0" xyz="0.032 0 0"/>
    <parent link="leftRingProximal"/>
    <child link="leftRingMedial"/>
    <axis xyz="0 0 -1"/>
    <limit effort="10.0" lower="-3.14" upper="3.14" velocity="1.0"/>
  </joint>
  <joint name="leftRingKnuckle3" type="revolute">
    <origin rpy="0 -0 0" xyz="0.022 0 0"/>
    <parent link="leftRingMedial"/>
    <child link="leftRingDistal"/>
    <axis xyz="0 0 -1"/>
    <limit effort="10.0" lower="-3.14" upper="3.14" velocity="1.0"/>
  </joint>
  <joint name="leftMiddleKnuckle1" type="revolute">
    <origin rpy="1.5708 0.785398 1.5708" xyz="0.00993585 0.0298617 -0.088883"/>
    <parent link="Body_LWP"/>
    <child link="leftMiddleProximal"/>
    <axis xyz="0 0 -1"/>
    <limit effort="10.0" lower="-3.14" upper="3.14" velocity="1.0"/>
  </joint>
  <joint name="leftMiddleKnuckle2" type="revolute">
    <origin rpy="0 -0 0" xyz="0.032 0 0"/>
    <parent link="leftMiddleProximal"/>
    <child link="leftMiddleMedial"/>
    <axis xyz="0 0 -1"/>
    <limit effort="10.0" lower="-3.14" upper="3.14" velocity="1.0"/>
  </joint>
  <joint name="leftMiddleKnuckle3" type="revolute">
    <origin rpy="0 -0 0" xyz="0.022 0 0"/>
    <parent link="leftMiddleMedial"/>
    <child link="leftMiddleDistal"/>
    <axis xyz="0 0 -1"/>
    <limit effort="10.0" lower="-3.14" upper="3.14" velocity="1.0"/>
  </joint>
  <joint name="leftIndexKnuckle1" type="revolute">
    <origin rpy="1.5708 0.785398 1.5708" xyz="0.0289159 0.0298617 -0.088883"/>
    <parent link="Body_LWP"/>
    <child link="leftIndexProximal"/>
    <axis xyz="0 0 -1"/>
    <limit effort="10.0" lower="-3.14" upper="3.14" velocity="1.0"/>
  </joint>
  <joint name="leftIndexKnuckle2" type="revolute">
    <origin rpy="0 -0 0" xyz="0.032 0 0"/>
    <parent link="leftIndexProximal"/>
    <child link="leftIndexMedial"/>
    <axis xyz="0 0 -1"/>
    <limit effort="10.0" lower="-3.14" upper="3.14" velocity="1.0"/>
  </joint>
  <joint name="leftIndexKnuckle3" type="revolute">
    <origin rpy="0 -0 0" xyz="0.022 0 0"/>
    <parent link="leftIndexMedial"/>
    <child link="leftIndexDistal"/>
    <axis xyz="0 0 -1"/>
    <limit effort="10.0" lower="-3.14" upper="3.14" velocity="1.0"/>
  </joint>
  <joint name="RSP" type="revolute">
    <origin rpy="0 -0 0" xyz="0.0122581 -0.139027 0.0486356"/>
    <parent link="Body_Torso"/>
    <child link="Body_RSP"/>
    <axis xyz="0 1 0"/>
    <limit effort="10.0" lower="-3.14158" upper="3.14158" velocity="1.0"/>
  </joint>
  <joint name="RSR" type="revolute">
    <origin rpy="0 -0 0" xyz="0.0269 -0.072 0"/>
    <parent link="Body_RSP"/>
    <child link="Body_RSR"/>
    <axis xyz="1 0 0"/>
    <limit effort="10.0" lower="-3.14158" upper="0" velocity="1.0"/>
  </joint>
  <joint name="RSY" type="revolute">
    <origin rpy="0 -0 0" xyz="-0.0269 0 -0.0245"/>
    <parent link="Body_RSR"/>
    <child link="Body_RSY"/>
    <axis xyz="0 0 1"/>
    <limit effort="10.0" lower="-3.14158" upper="3.14158" velocity="1.0"/>
  </joint>
  <joint name="REB" type="revolute">
    <origin rpy="0 -0 0" xyz="0.0219936 0.018 -0.157505"/>
    <parent link="Body_RSY"/>
    <child link="Body_REB"/>
    <axis xyz="0 1 0"/>
    <limit effort="10.0" lower="-2.49582" upper="0.0698132" velocity="1.0"/>
  </joint>
  <joint name="RWY" type="revolute">
    <origin rpy="0 -0 0" xyz="-0.0219906 -0.018 -0.111408"/>
    <parent link="Body_REB"/>
    <child link="Body_RWY"/>
    <axis xyz="0 0 1"/>
    <limit effort="10.0" lower="-3.14158" upper="3.14158" velocity="1.0"/>
  </joint>
  <joint name="RWP" type="revolute">
    <origin rpy="0 -0 0" xyz="1.72973e-06 0.01 -0.05255"/>
    <parent link="Body_RWY"/>
    <child link="Body_RWP"/>
    <axis xyz="0 1 0"/>
    <limit effort="10.0" lower="-1.64061" upper="1.01229" velocity="1.0"/>
  </joint>
  <joint name="rightThumbKnuckle1" type="revolute">
    <origin rpy="1.5708 -0.785398 1.5708" xyz="0.0208959 -0.00192069 -0.060952"/>
    <parent link="Body_RWP"/>
    <child link="rightThumbProximal"/>
    <axis xyz="0 0 -1"/>
    <limit effort="10.0" lower="0" upper="1.57" velocity="1.0"/>
  </joint>
  <joint name="rightThumbKnuckle2" type="revolute">
    <origin rpy="0 -0 0" xyz="0.032 0 0"/>
    <parent link="rightThumbProximal"/>
    <child link="rightThumbMedial"/>
    <axis xyz="0 0 -1"/>
    <limit effort="10.0" lower="0" upper="1.57" velocity="1.0"/>
  </joint>
  <joint name="rightThumbKnuckle3" type="revolute">
    <origin rpy="0 -0 0" xyz="0.022 0 0"/>
    <parent link="rightThumbMedial"/>
    <child link="rightThumbDistal"/>
    <axis xyz="0 0 -1"/>
    <limit effort="10.0" lower="0" upper="1.57" velocity="1.0"/>
  </joint>
  <joint name="rightPinkyKnuckle1" type="revolute">
    <origin rpy="1.5708 0.785398 -1.5708" xyz="-0.0281041 -0.0298617 -0.088883"/>
    <parent link="Body_RWP"/>
    <child link="rightPinkyProximal"/>
    <axis xyz="0 0 -1"/>
    <limit effort="10.0" lower="0" upper="1.57" velocity="1.0"/>
  </joint>
  <joint name="rightPinkyKnuckle2" type="revolute">
    <origin rpy="0 -0 0" xyz="0.032 0 0"/>
    <parent link="rightPinkyProximal"/>
    <child link="rightPinkyMedial"/>
    <axis xyz="0 0 -1"/>
    <limit effort="10.0" lower="0" upper="1.57" velocity="1.0"/>
  </joint>
  <joint name="rightPinkyKnuckle3" type="revolute">
    <origin rpy="0 -0 0" xyz="0.022 0 0"/>
    <parent link="rightPinkyMedial"/>
    <child link="rightPinkyDistal"/>
    <axis xyz="0 0 -1"/>
    <limit effort="10.0" lower="0" upper="1.57" velocity="1.0"/>
  </joint>
  <joint name="rightRingKnuckle1" type="revolute">
    <origin rpy="1.5708 0.785398 -1.5708" xyz="-0.00910415 -0.0298617 -0.088883"/>
    <parent link="Body_RWP"/>
    <child link="rightRingProximal"/>
    <axis xyz="0 0 -1"/>
    <limit effort="10.0" lower="0" upper="1.57" velocity="1.0"/>
  </joint>
  <joint name="rightRingKnuckle2" type="revolute">
    <origin rpy="0 -0 0" xyz="0.032 0 0"/>
    <parent link="rightRingProximal"/>
    <child link="rightRingMedial"/>
    <axis xyz="0 0 -1"/>
    <limit effort="10.0" lower="0" upper="1.57" velocity="1.0"/>
  </joint>
  <joint name="rightRingKnuckle3" type="revolute">
    <origin rpy="0 -0 0" xyz="0.022 0 0"/>
    <parent link="rightRingMedial"/>
    <child link="rightRingDistal"/>
    <axis xyz="0 0 -1"/>
    <limit effort="10.0" lower="0" upper="1.57" velocity="1.0"/>
  </joint>
  <joint name="rightMiddleKnuckle1" type="revolute">
    <origin rpy="1.5708 0.785398 -1.5708" xyz="0.00993585 -0.0298617 -0.088883"/>
    <parent link="Body_RWP"/>
    <child link="rightMiddleProximal"/>
    <axis xyz="0 0 -1"/>
    <limit effort="10.0" lower="0" upper="1.57" velocity="1.0"/>
  </joint>
  <joint name="rightMiddleKnuckle2" type="revolute">
    <origin rpy="0 -0 0" xyz="0.032 0 0"/>
    <parent link="rightMiddleProximal"/>
    <child link="rightMiddleMedial"/>
    <axis xyz="0 0 -1"/>
    <limit effort="10.0" lower="0" upper="1.57" velocity="1.0"/>
  </joint>
  <joint name="rightMiddleKnuckle3" type="revolute">
    <origin rpy="0 -0 0" xyz="0.022 0 0"/>
    <parent link="rightMiddleMedial"/>
    <child link="rightMiddleDistal"/>
    <axis xyz="0 0 -1"/>
    <limit effort="10.0" lower="0" upper="1.57" velocity="1.0"/>
  </joint>
  <joint name="rightIndexKnuckle1" type="revolute">
    <origin rpy="1.5708 0.785398 -1.5708" xyz="0.0289159 -0.0298617 -0.088883"/>
    <parent link="Body_RWP"/>
    <child link="rightIndexProximal"/>
    <axis xyz="0 0 -1"/>
    <limit effort="10.0" lower="0" upper="1.57" velocity="1.0"/>
  </joint>
  <joint name="rightIndexKnuckle2" type="revolute">
    <origin rpy="0 -0 0" xyz="0.032 0 0"/>
    <parent link="rightIndexProximal"/>
    <child link="rightIndexMedial"/>
    <axis xyz="0 0 -1"/>
    <limit effort="10.0" lower="0" upper="1.57" velocity="1.0"/>
  </joint>
  <joint name="rightIndexKnuckle3" type="revolute">
    <origin rpy="0 -0 0" xyz="0.022 0 0"/>
    <parent link="rightIndexMedial"/>
    <child link="rightIndexDistal"/>
    <axis xyz="0 0 -1"/>
    <limit effort="10.0" lower="0" upper="1.57" velocity="1.0"/>
  </joint>
  <joint name="WST" type="revolute">
    <origin rpy="0 -0 0" xyz="0.0122662 0.00245974 -0.15262"/>
    <parent link="Body_Torso"/>
    <child link="Body_Hip"/>
    <axis xyz="0 0 -1"/>
    <limit effort="10.0" lower="-3.14158" upper="3.14158" velocity="1.0"/>
  </joint>
  <joint name="LHY" type="revolute">
    <origin rpy="0 -0 0" xyz="0.000125136 0.0885155 -0.0764689"/>
    <parent link="Body_Hip"/>
    <child link="Body_LHY"/>
    <axis xyz="0 0 1"/>
    <limit effort="10.0" lower="-1.5708" upper="1.5708" velocity="1.0"/>
  </joint>
  <joint name="LHR" type="revolute">
    <origin rpy="0 -0 0" xyz="0.0520001 1.50498e-06 -0.091004"/>
    <parent link="Body_LHY"/>
    <child link="Body_LHR"/>
    <axis xyz="1 0 0"/>
    <limit effort="10.0" lower="-0.488692" upper="0.488692" velocity="1.0"/>
  </joint>
  <joint name="LHP" type="revolute">
    <origin rpy="0 -0 0" xyz="-0.0529074 0.0655748 9.99159e-05"/>
    <parent link="Body_LHR"/>
    <child link="Body_LHP"/>
    <axis xyz="0 1 0"/>
    <limit effort="10.0" lower="-1.48353" upper="1.6057" velocity="1.0"/>
  </joint>
  <joint name="LKN" type="revolute">
    <origin rpy="0 -0 0" xyz="0.000766364 -0.0445011 -0.280007"/>
    <parent link="Body_LHP"/>
    <child link="Body_LKN"/>
    <axis xyz="0 1 0"/>
    <limit effort="10.0" lower="-0.0698132" upper="2.60054" velocity="1.0"/>
  </joint>
  <joint name="LAP" type="revolute">
    <origin rpy="0 -0 0" xyz="7.20248e-06 0.0247555 -0.279942"/>
    <parent link="Body_LKN"/>
    <child link="Body_LAP"/>
    <axis xyz="0 1 0"/>
    <limit effort="10.0" lower="-1.29154" upper="1.69297" velocity="1.0"/>
  </joint>
  <joint name="LAR" type="revolute">
    <origin rpy="0 -0 0" xyz="0.0711787 -0.0466006 -1.04e-10"/>
    <parent link="Body_LAP"/>
    <child link="Body_LAR"/>
    <axis xyz="1 0 0"/>
    <limit effort="10.0" lower="-0.191986" upper="0.191986" velocity="1.0"/>
  </joint>
  <joint name="RHY" type="revolute">
    <origin rpy="0 -0 0" xyz="0.000125136 -0.0884999 -0.0764689"/>
    <parent link="Body_Hip"/>
    <child link="Body_RHY"/>
    <axis xyz="0 0 1"/>
    <limit effort="10.0" lower="-1.5708" upper="1.5708" velocity="1.0"/>
  </joint>
  <joint name="RHR" type="revolute">
    <origin rpy="0 -0 0" xyz="0.0520001 7.3455e-05 -0.091004"/>
    <parent link="Body_RHY"/>
    <child link="Body_RHR"/>
    <axis xyz="1 0 0"/>
    <limit effort="10.0" lower="-0.488692" upper="0.488692" velocity="1.0"/>
  </joint>
  <joint name="RHP" type="revolute">
    <origin rpy="0 -0 0" xyz="-0.0529074 -0.0655748 9.99159e-05"/>
    <parent link="Body_RHR"/>
    <child link="Body_RHP"/>
    <axis xyz="0 1 0"/>
    <limit effort="10.0" lower="-1.48353" upper="1.6057" velocity="1.0"/>
  </joint>
  <joint name="RKN" type="revolute">
    <origin rpy="0 -0 0" xyz="0.000766364 0.0445011 -0.280007"/>
    <parent link="Body_RHP"/>
    <child link="Body_RKN"/>
    <axis xyz="0 1 0"/>
    <limit effort="10.0" lower="-0.0698132" upper="2.60054" velocity="1.0"/>
  </joint>
  <joint name="RAP" type="revolute">
    <origin rpy="0 -0 0" xyz="7.20248e-06 -0.0247555 -0.279942"/>
    <parent link="Body_RKN"/>
    <child link="Body_RAP"/>
    <axis xyz="0 1 0"/>
    <limit effort="10.0" lower="-1.29154" upper="1.69297" velocity="1.0"/>
  </joint>
  <joint name="RAR" type="revolute">
    <origin rpy="0 -0 0" xyz="0.0711787 0.0466006 -1.04e-10"/>
    <parent link="Body_RAP"/>
    <child link="Body_RAR"/>
    <axis xyz="1 0 0"/>
    <limit effort="10.0" lower="-0.191986" upper="0.191986" velocity="1.0"/>
  </joint>
  <gazebo>
    <!-- robot model offset -->
    <pose>0 0 1 0 0 0</pose>
  </gazebo>
  <transmission name="LHY_trans" type="pr2_mechanism_model/SimpleTransmission">
    <actuator name="LHY_motor" />
    <joint name="LHY" />
    <mechanicalReduction>1</mechanicalReduction>
    <motorTorqueConstant>1</motorTorqueConstant>
  </transmission>
  <transmission name="LHR_trans" type="pr2_mechanism_model/SimpleTransmission">
    <actuator name="LHR_motor" />
    <joint name="LHR" />
    <mechanicalReduction>1</mechanicalReduction>
    <motorTorqueConstant>1</motorTorqueConstant>
  </transmission>
  <transmission name="LHP_trans" type="pr2_mechanism_model/SimpleTransmission">
    <actuator name="LHP_motor" />
    <joint name="LHP" />
    <mechanicalReduction>1</mechanicalReduction>
    <motorTorqueConstant>1</motorTorqueConstant>
  </transmission>
  <transmission name="LKN_trans" type="pr2_mechanism_model/SimpleTransmission">
    <actuator name="LKN_motor" />
    <joint name="LKN" />
    <mechanicalReduction>1</mechanicalReduction>
    <motorTorqueConstant>1</motorTorqueConstant>
  </transmission>
  <transmission name="LAP_trans" type="pr2_mechanism_model/SimpleTransmission">
    <actuator name="LAP_motor" />
    <joint name="LAP" />
    <mechanicalReduction>1</mechanicalReduction>
    <motorTorqueConstant>1</motorTorqueConstant>
  </transmission>
  <transmission name="LAR_trans" type="pr2_mechanism_model/SimpleTransmission">
    <actuator name="LAR_motor" />
    <joint name="LAR" />
    <mechanicalReduction>1</mechanicalReduction>
    <motorTorqueConstant>1</motorTorqueConstant>
  </transmission>
  <transmission name="RHY_trans" type="pr2_mechanism_model/SimpleTransmission">
    <actuator name="RHY_motor" />
    <joint name="RHY" />
    <mechanicalReduction>1</mechanicalReduction>
    <motorTorqueConstant>1</motorTorqueConstant>
  </transmission>
<transmission name="RHR_trans" type="pr2_mechanism_model/SimpleTransmission">
    <actuator name="RHR_motor" />
    <joint name="RHR" />
    <mechanicalReduction>1</mechanicalReduction>
    <motorTorqueConstant>1</motorTorqueConstant>
  </transmission>
  <transmission name="RHP_trans" type="pr2_mechanism_model/SimpleTransmission">
    <actuator name="RHP_motor" />
    <joint name="RHP" />
    <mechanicalReduction>1</mechanicalReduction>
    <motorTorqueConstant>1</motorTorqueConstant>
  </transmission>
  <transmission name="RKN_trans" type="pr2_mechanism_model/SimpleTransmission">
    <actuator name="RKN_motor" />
    <joint name="RKN" />
    <mechanicalReduction>1</mechanicalReduction>
    <motorTorqueConstant>1</motorTorqueConstant>
  </transmission>
  <transmission name="RAP_trans" type="pr2_mechanism_model/SimpleTransmission">
    <actuator name="RAP_motor" />
    <joint name="RAP" />
    <mechanicalReduction>1</mechanicalReduction>
    <motorTorqueConstant>1</motorTorqueConstant>
  </transmission>
  <transmission name="RAR_trans" type="pr2_mechanism_model/SimpleTransmission">
    <actuator name="RAR_motor" />
    <joint name="RAR" />
    <mechanicalReduction>1</mechanicalReduction>
    <motorTorqueConstant>1</motorTorqueConstant>
  </transmission>
  <gazebo>
<!--    <plugin name="pid_joints" filename="libpid_joints.so" />  -->
    <plugin name="hubo_stand" filename="/usr/share/drcsim-1.3/models/hubo/plugins/libhubo_stand.so" /> 
<!--    <plugin name="hubo_all" filename="libhubo_all.so" /> -->

  </gazebo>
</robot>
